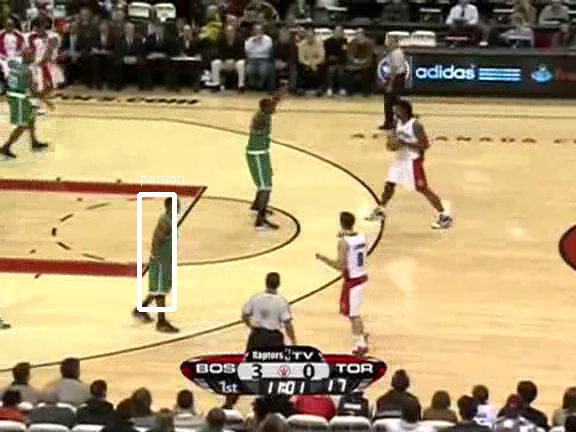person: (150, 214, 184, 295), (149, 214, 183, 295), (151, 214, 185, 295), (150, 213, 184, 294), (150, 215, 184, 296)
target_negative: (137, 179, 479, 407), (262, 200, 390, 322), (307, 292, 416, 370), (377, 76, 424, 223), (407, 298, 427, 432), (543, 251, 575, 315)
